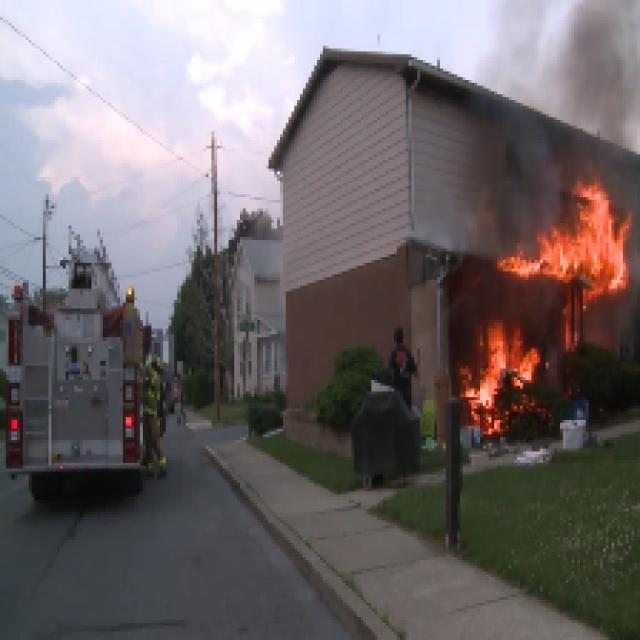Fire: (431, 180, 640, 483)
Smoke: (465, 0, 640, 188)
